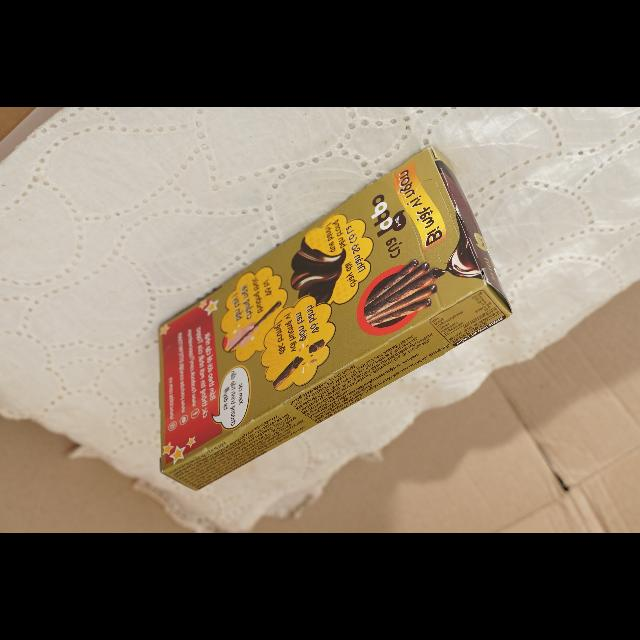banh_toppo_socola: (159, 147, 511, 490)
